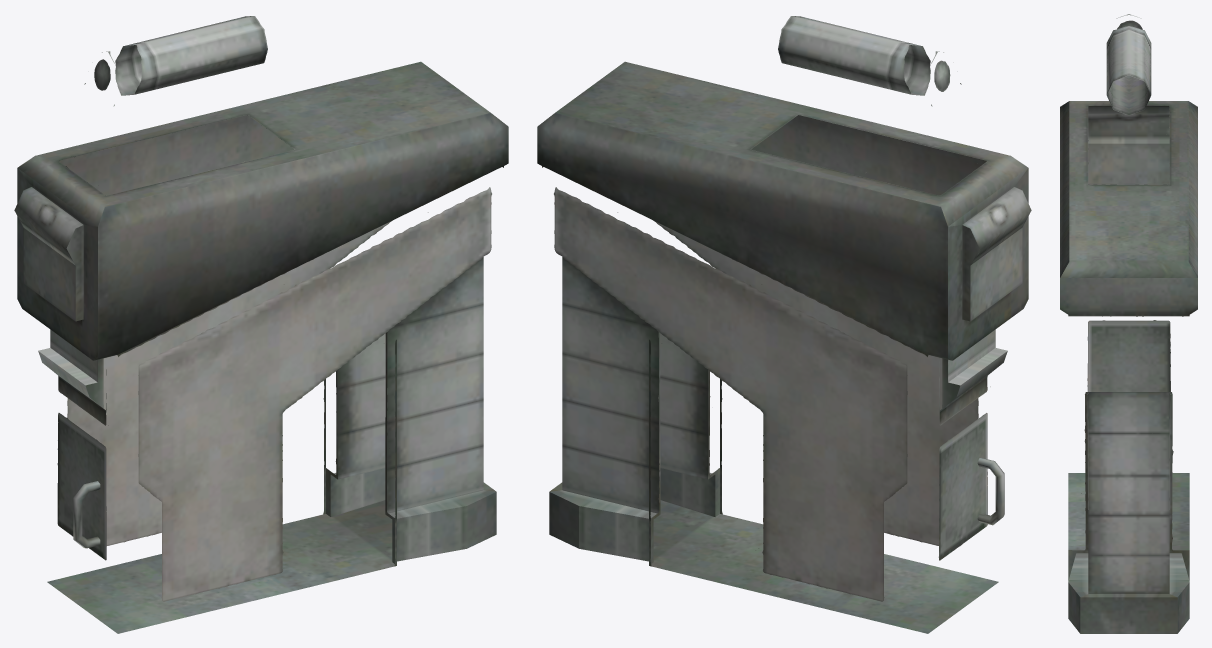
The model's file is eqp_comp_ammo_missile_l1.fbx.
3 views of the same model, side by side, from view 1: azimuth 30°, elevation 25°; view 2: azimuth 150°, elevation 25°; view 3: azimuth 270°, elevation 25° (orthographic). The views are drawn at different scales.
Visible parts, largest first — view 1: mesh_node; view 2: mesh_node; view 3: mesh_node.
Part boxes in pixels (left/top/right/bottom): mesh_node: left=14, top=16, right=508, bottom=633; mesh_node: left=537, top=16, right=1031, bottom=633; mesh_node: left=1060, top=14, right=1197, bottom=633.
Bounding box in the file's own units: 0.8039 × 0.9873 × 0.2623.
Materials: 1 (1 with a texture image).
